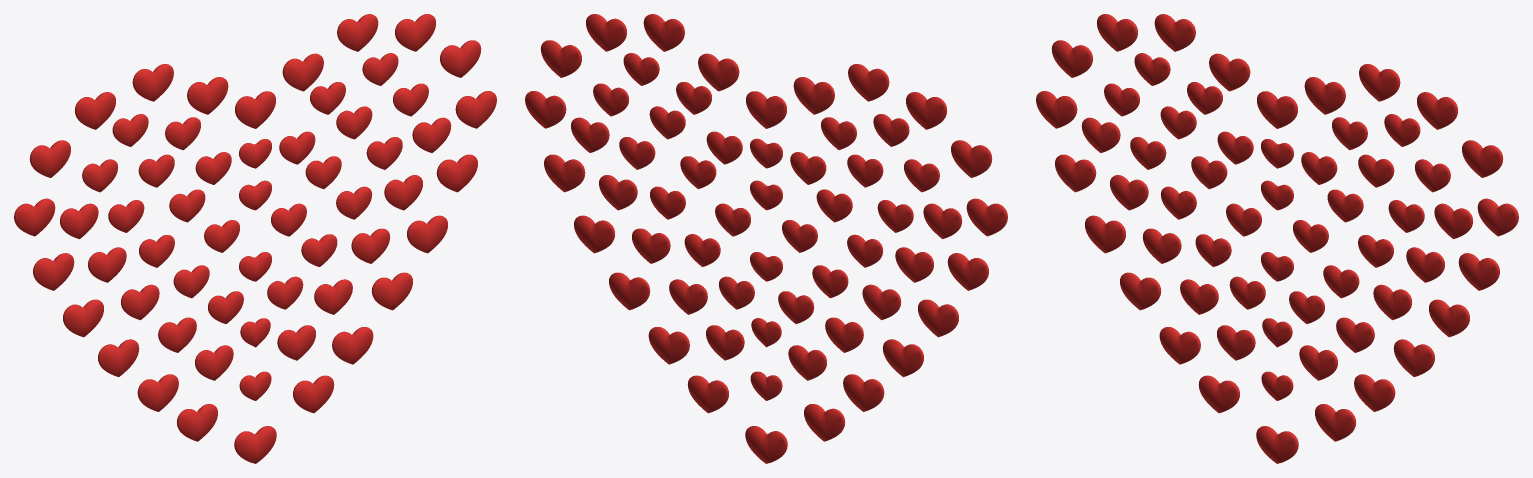
File: Hearts_Wall.fbx
3 views of the same model, side by side, from view 1: azimuth 30°, elevation 25°; view 2: azimuth 150°, elevation 25°; view 3: azimuth 330°, elevation 25° (orthographic).
Parts seen in each view (by area): view 1: Hearts_Wall; view 2: Hearts_Wall; view 3: Hearts_Wall.
Boxes of the visible parts, <box> form: Hearts_Wall: <box>14,14,496,463</box>; Hearts_Wall: <box>525,14,1007,463</box>; Hearts_Wall: <box>1036,14,1518,463</box>.
Bounding box in the file's own units: 267 × 223 × 1.95.
